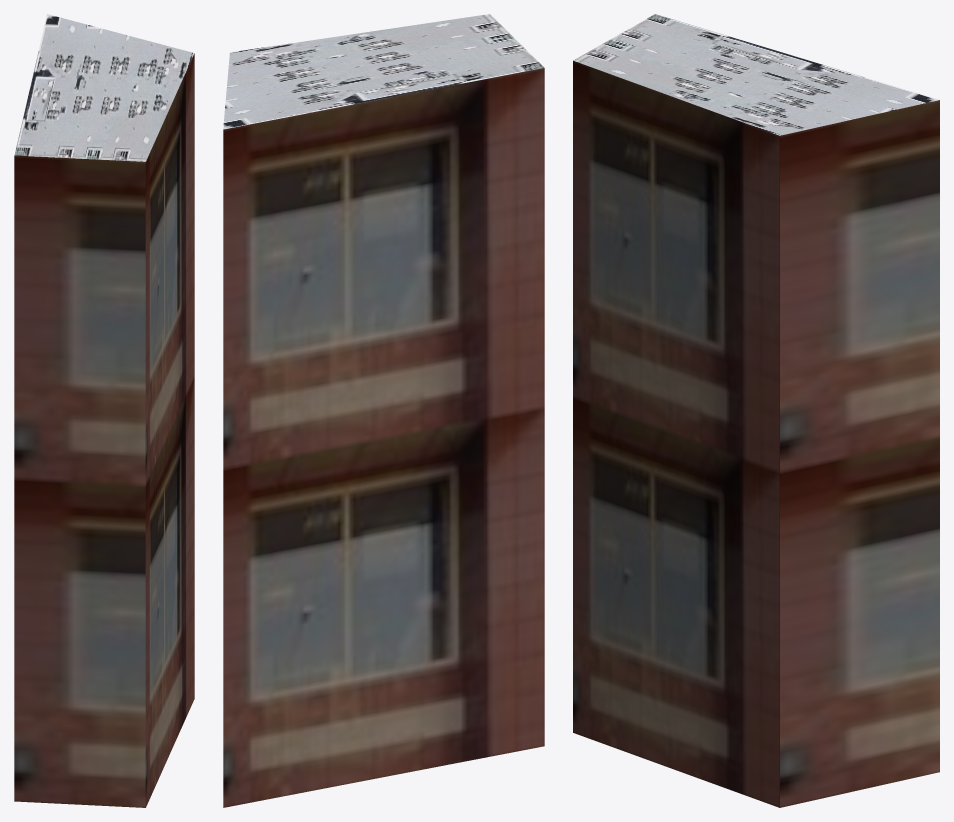
Rendered from ResTex__4285.fbx.
3 renders of one model, left to right at view 1: azimuth 30°, elevation 25°; view 2: azimuth 150°, elevation 25°; view 3: azimuth 270°, elevation 25°, orthographic. The views are drawn at different scales.
Parts seen in each view (by area): view 1: CityEngineMaterial_13_m, CityEngineMaterial_8_m; view 2: CityEngineMaterial_13_m, CityEngineMaterial_8_m; view 3: CityEngineMaterial_13_m, CityEngineMaterial_8_m.
Part boxes in pixels (x1,y1,x2,y2): CityEngineMaterial_13_m: [14, 53, 194, 807]; CityEngineMaterial_8_m: [14, 14, 194, 161]; CityEngineMaterial_13_m: [223, 68, 544, 807]; CityEngineMaterial_8_m: [223, 14, 544, 129]; CityEngineMaterial_13_m: [573, 60, 939, 807]; CityEngineMaterial_8_m: [573, 14, 938, 135].
Bounding box in the file's own units: 2.33 × 6 × 2.97.
Materials: 2 (2 with a texture image).
